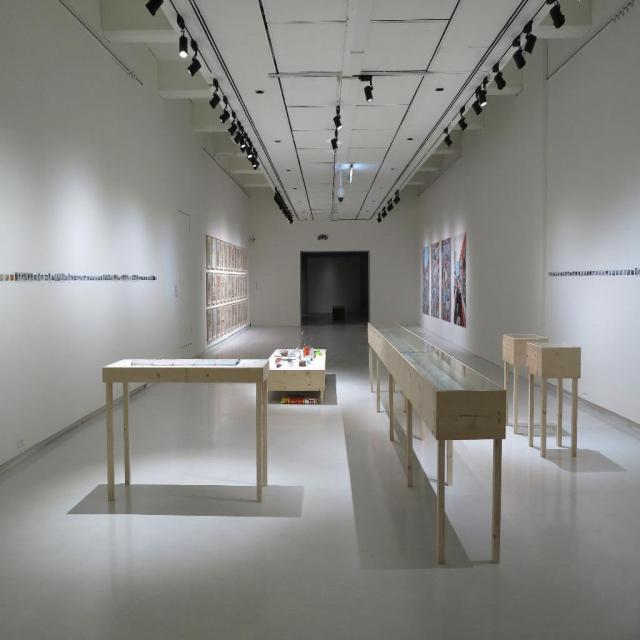desk: (378, 315, 522, 563)
tv: (421, 230, 469, 338)
